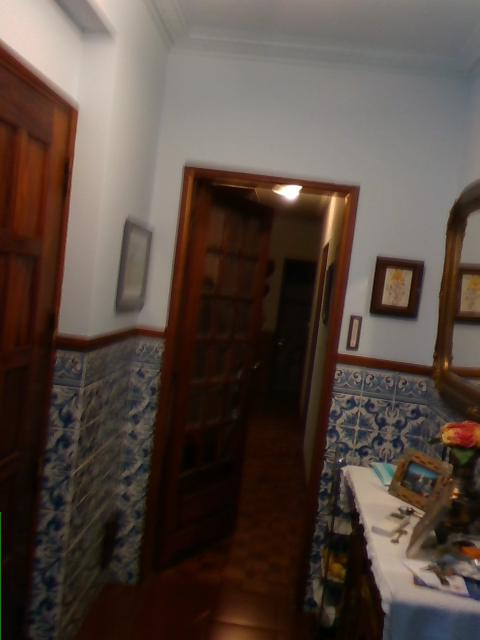semi_door: (138, 161, 361, 613)
